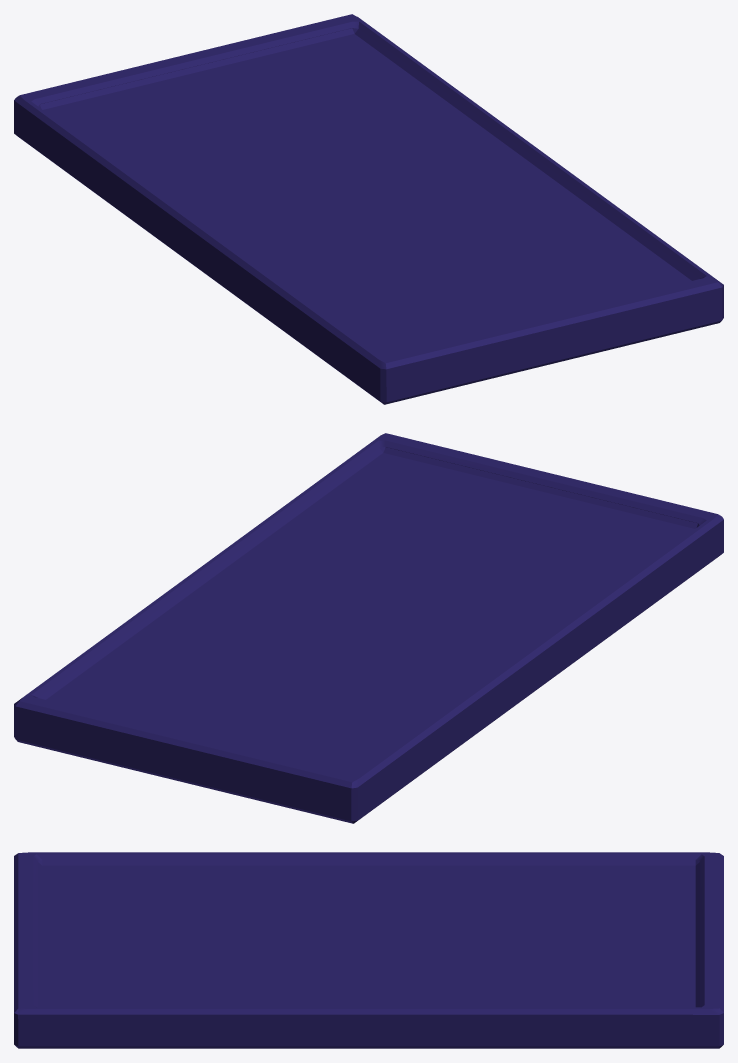
File: CELULAR.fbx
The picture shows the model from 3 angles, top to bottom: view 1: azimuth 30°, elevation 25°; view 2: azimuth 150°, elevation 25°; view 3: azimuth 270°, elevation 25°; orthographic projection. The views are drawn at different scales.
Parts seen in each view (by area): view 1: pCube1; view 2: pCube1; view 3: pCube1.
Part boxes in pixels (bbox=[...]): pCube1: bbox=[14, 14, 723, 404]; pCube1: bbox=[14, 433, 723, 823]; pCube1: bbox=[14, 852, 723, 1048].
Size of the model in its own units: 0.2878 by 0.033 by 0.5382.
